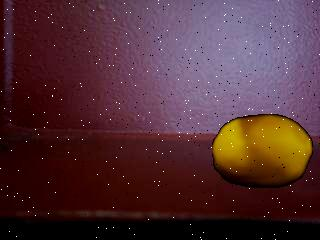Lemon: (211, 112, 314, 190)
